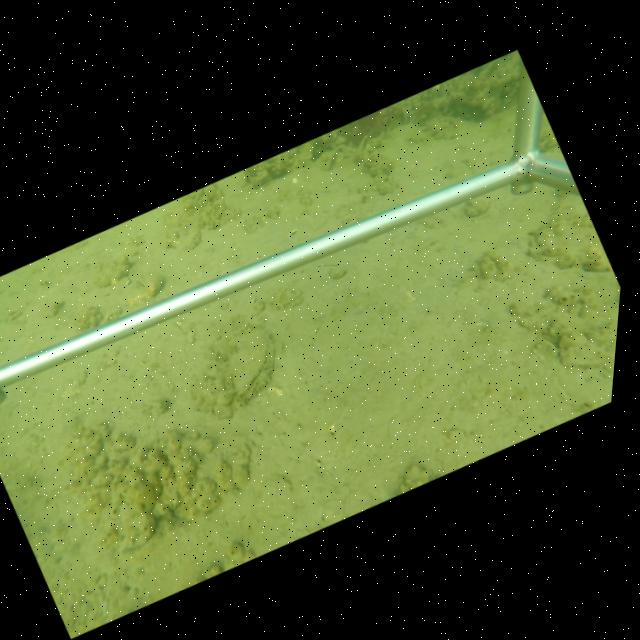Oyster-Closed: (222, 324, 276, 408), (324, 146, 354, 167)
Oyster-Open: (133, 270, 163, 297), (360, 132, 383, 152)
